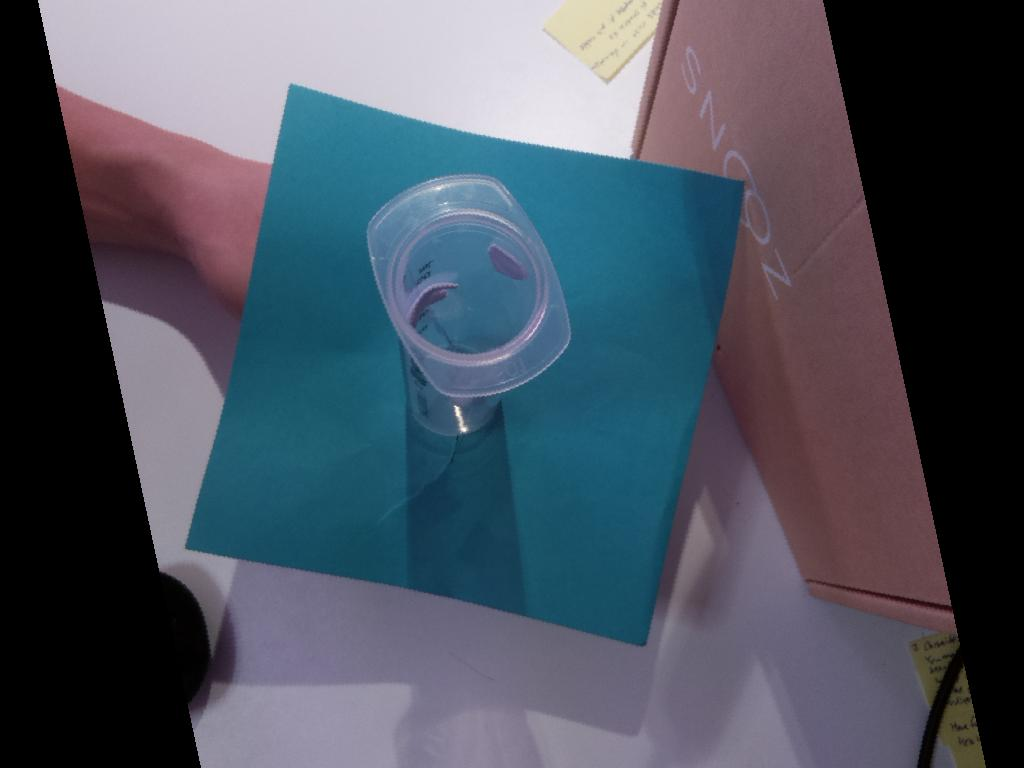dirty: (366, 173, 573, 401)
